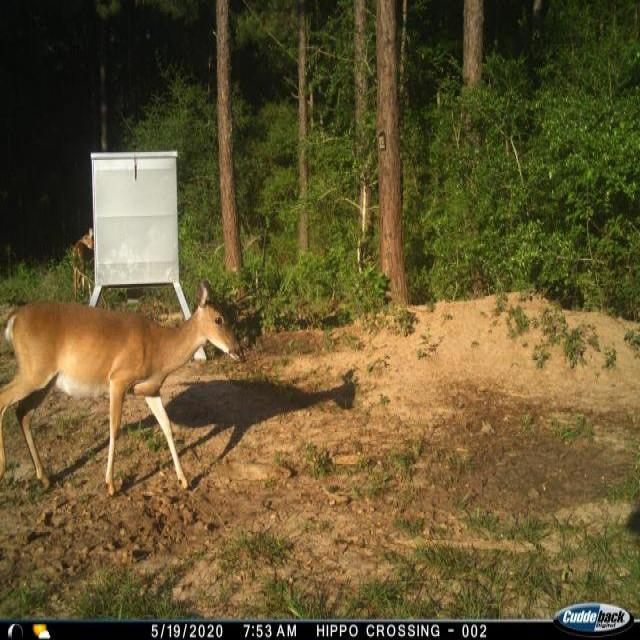deer: (0, 277, 248, 500), (70, 224, 98, 301)
